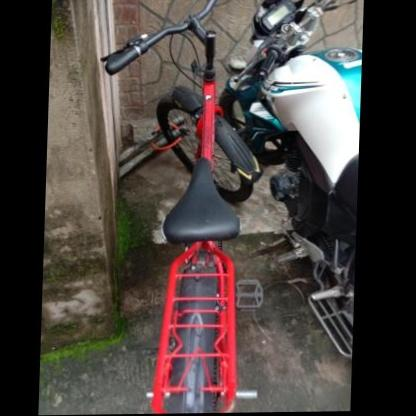Bicycle: (68, 0, 286, 412)
